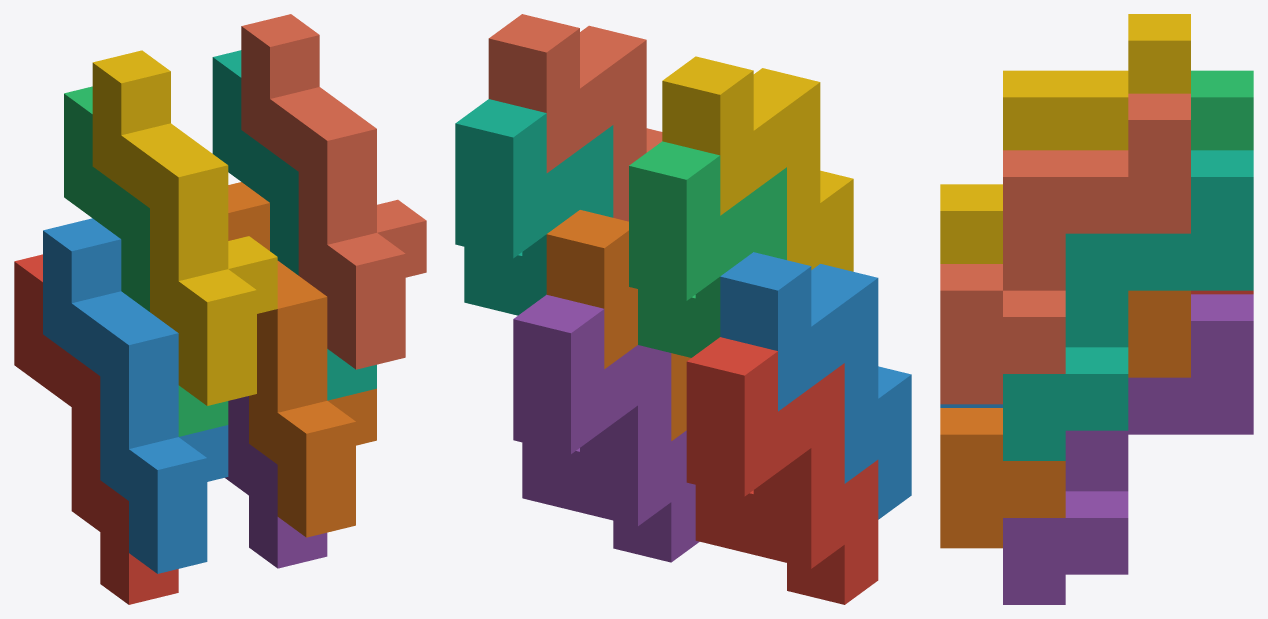
File: tiling.obj
3 renders of one model, left to right at view 1: azimuth 30°, elevation 25°; view 2: azimuth 150°, elevation 25°; view 3: azimuth 270°, elevation 25°, orthographic. The views are drawn at different scales.
Visible parts, largest first — view 1: copy_1_domain_8, copy_1_domain_4, copy_1_domain_2, copy_1_domain_6, copy_1_domain_1, copy_1_domain_3, copy_1_domain_7, copy_1_domain_5; view 2: copy_1_domain_1, copy_1_domain_5, copy_1_domain_2, copy_1_domain_4, copy_1_domain_7, copy_1_domain_3, copy_1_domain_8, copy_1_domain_6; view 3: copy_1_domain_8, copy_1_domain_7, copy_1_domain_5, copy_1_domain_4, copy_1_domain_6, copy_1_domain_3.
Boxes of the visible parts, <box> form: copy_1_domain_8: <box>241,14,426,369</box>; copy_1_domain_4: <box>92,50,277,405</box>; copy_1_domain_2: <box>43,218,228,573</box>; copy_1_domain_6: <box>228,182,376,537</box>; copy_1_domain_1: <box>14,254,178,604</box>; copy_1_domain_3: <box>64,86,228,436</box>; copy_1_domain_7: <box>212,50,376,400</box>; copy_1_domain_5: <box>225,396,327,568</box>; copy_1_domain_1: <box>686,337,878,604</box>; copy_1_domain_5: <box>513,294,699,562</box>; copy_1_domain_2: <box>720,252,911,519</box>; copy_1_domain_4: <box>662,56,853,271</box>; copy_1_domain_7: <box>455,99,613,315</box>; copy_1_domain_3: <box>629,141,786,357</box>; copy_1_domain_8: <box>488,14,662,221</box>; copy_1_domain_6: <box>546,210,690,440</box>; copy_1_domain_8: <box>940,93,1190,404</box>; copy_1_domain_7: <box>1003,150,1253,460</box>; copy_1_domain_5: <box>1003,294,1253,604</box>; copy_1_domain_4: <box>940,14,1190,263</box>; copy_1_domain_6: <box>940,290,1190,548</box>; copy_1_domain_3: <box>1191,70,1253,150</box>.
Bounding box in the file's own units: 6 × 9 × 5.
